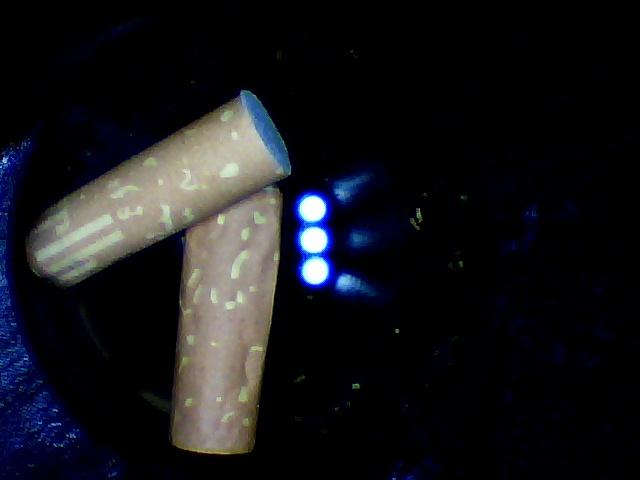megot: (19, 84, 300, 303), (155, 160, 294, 460)
